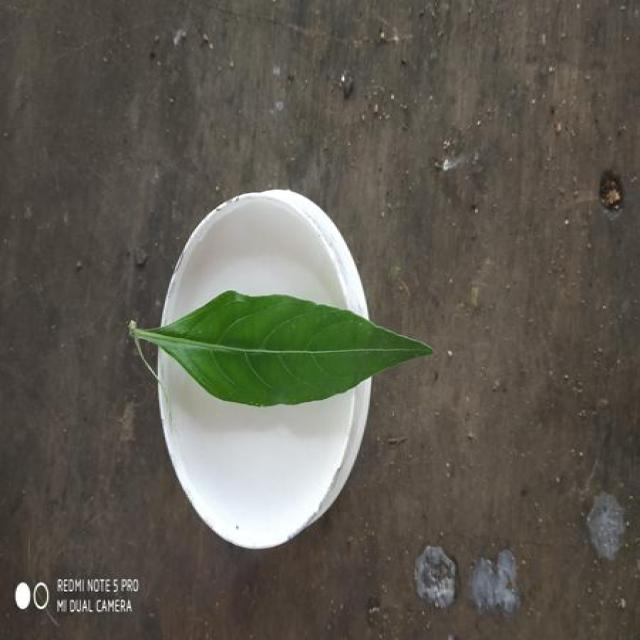Nelavembu: (130, 291, 432, 406)
